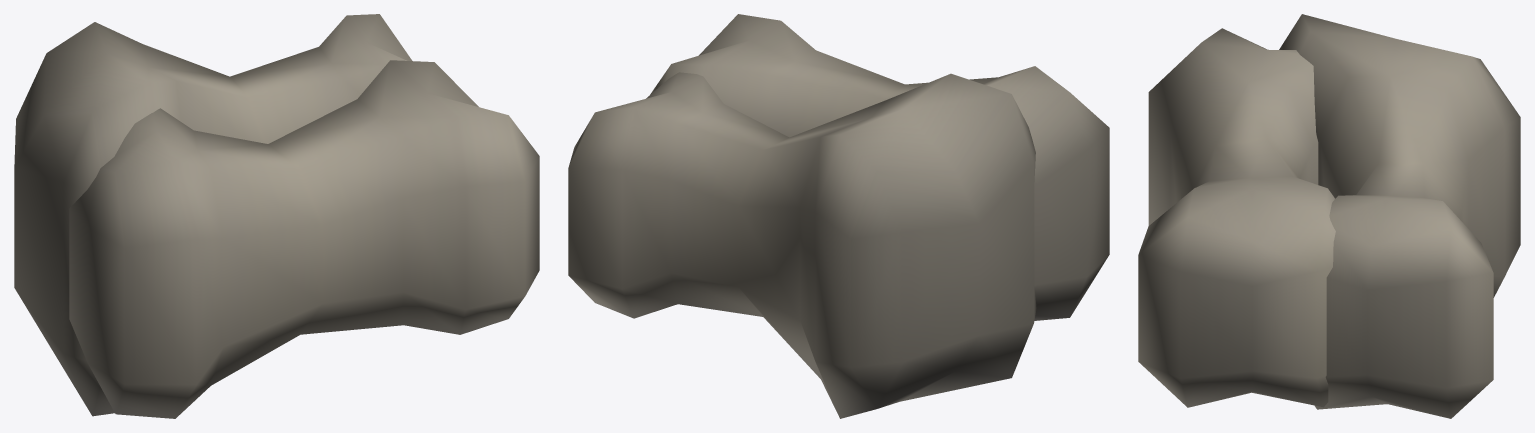
The model's file is deco_bone_4.fbx.
3 renders of one model, left to right at view 1: azimuth 30°, elevation 25°; view 2: azimuth 150°, elevation 25°; view 3: azimuth 270°, elevation 25°, orthographic. The views are drawn at different scales.
Parts seen in each view (by area): view 1: deco_bone_4; view 2: deco_bone_4; view 3: deco_bone_4.
Boxes of the visible parts, x1,y1,x2,y2 form: deco_bone_4: (14, 14, 539, 418); deco_bone_4: (568, 14, 1109, 418); deco_bone_4: (1138, 14, 1520, 418).
Bounding box in the file's own units: 32.53 × 23.31 × 26.6.
